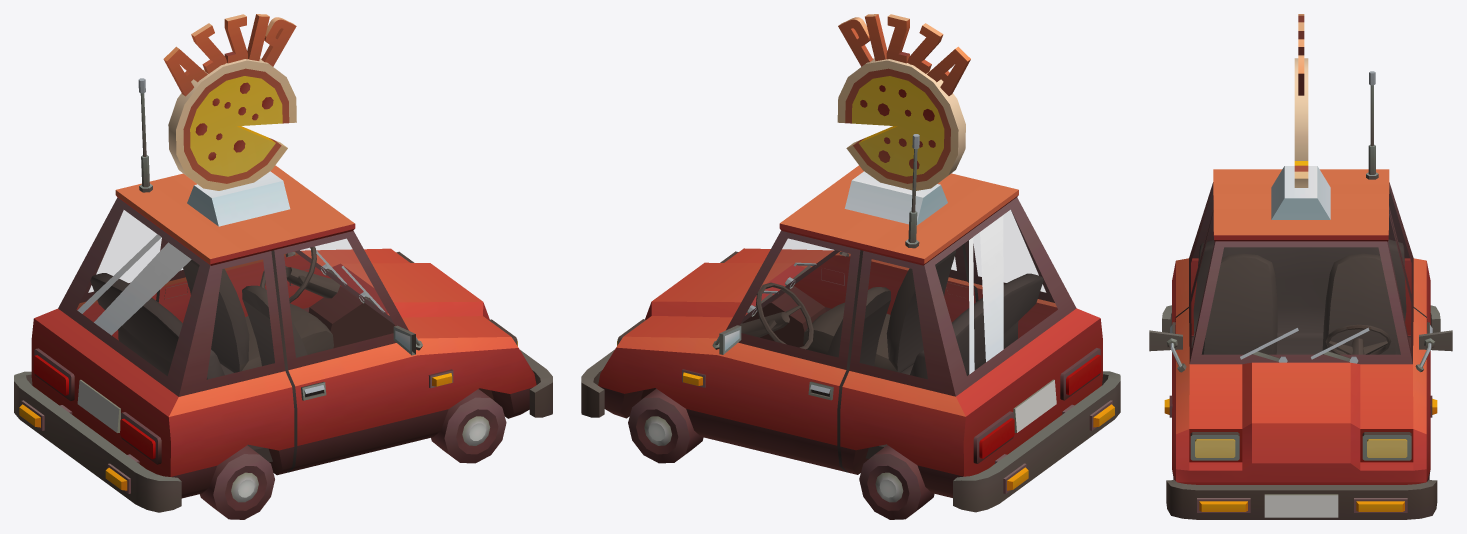
File: Car_03.FBX
3 views of the same model, side by side, from view 1: azimuth 30°, elevation 25°; view 2: azimuth 150°, elevation 25°; view 3: azimuth 270°, elevation 25° (orthographic). The views are drawn at different scales.
Visible parts, largest first — view 1: Car_03; view 2: Car_03; view 3: Car_03.
Boxes of the visible parts, bbox=[...] form: Car_03: bbox=[14, 14, 552, 519]; Car_03: bbox=[581, 14, 1120, 519]; Car_03: bbox=[1149, 14, 1452, 519].
Bounding box in the file's own units: 289 × 283 × 191.
Materials: 2 (1 with a texture image).
